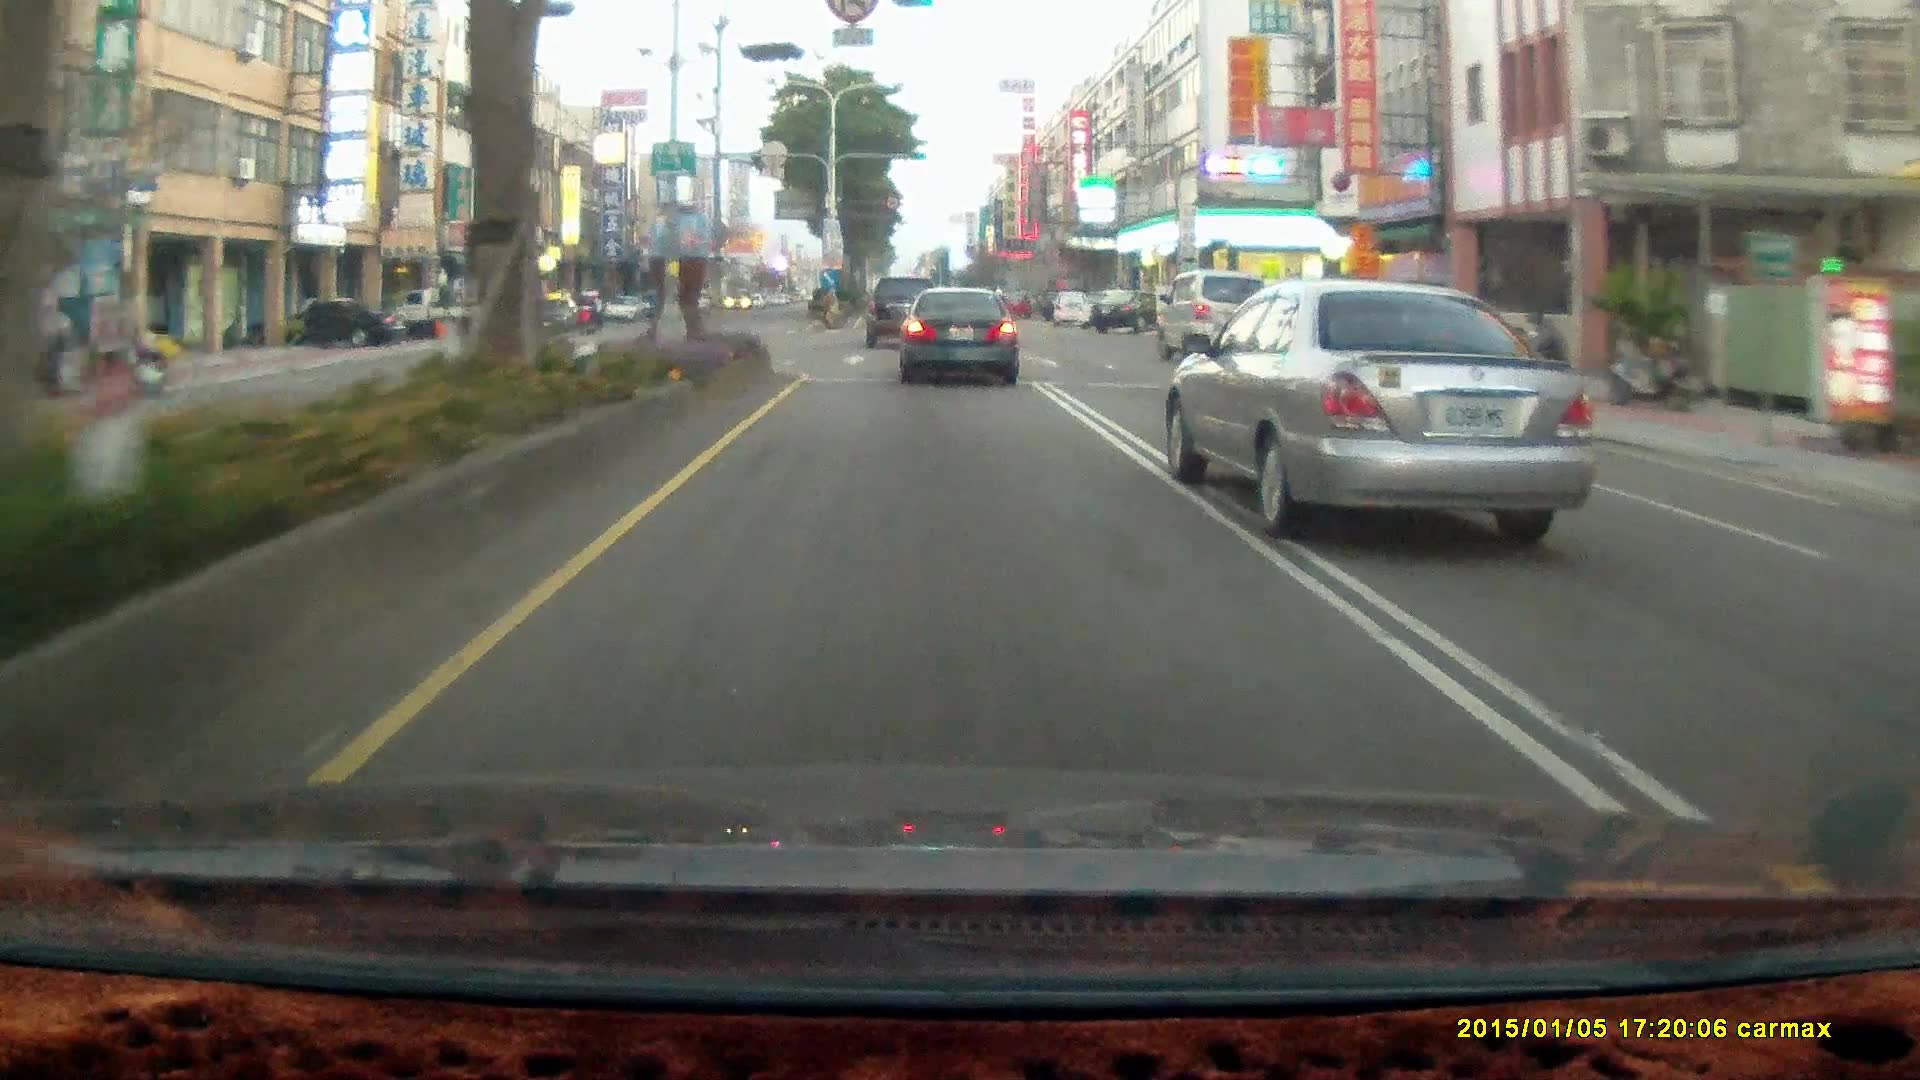rider: (575, 288, 605, 334)
vehicle: (1169, 277, 1613, 541), (897, 284, 1024, 390), (896, 284, 1018, 383), (1156, 267, 1269, 361), (1160, 270, 1273, 363), (260, 295, 398, 345), (865, 273, 943, 351), (293, 295, 404, 350), (396, 286, 497, 341), (865, 274, 941, 347), (386, 286, 489, 333), (1090, 287, 1170, 329), (1090, 285, 1145, 331), (525, 296, 581, 329), (1048, 287, 1093, 324), (609, 294, 647, 319)
